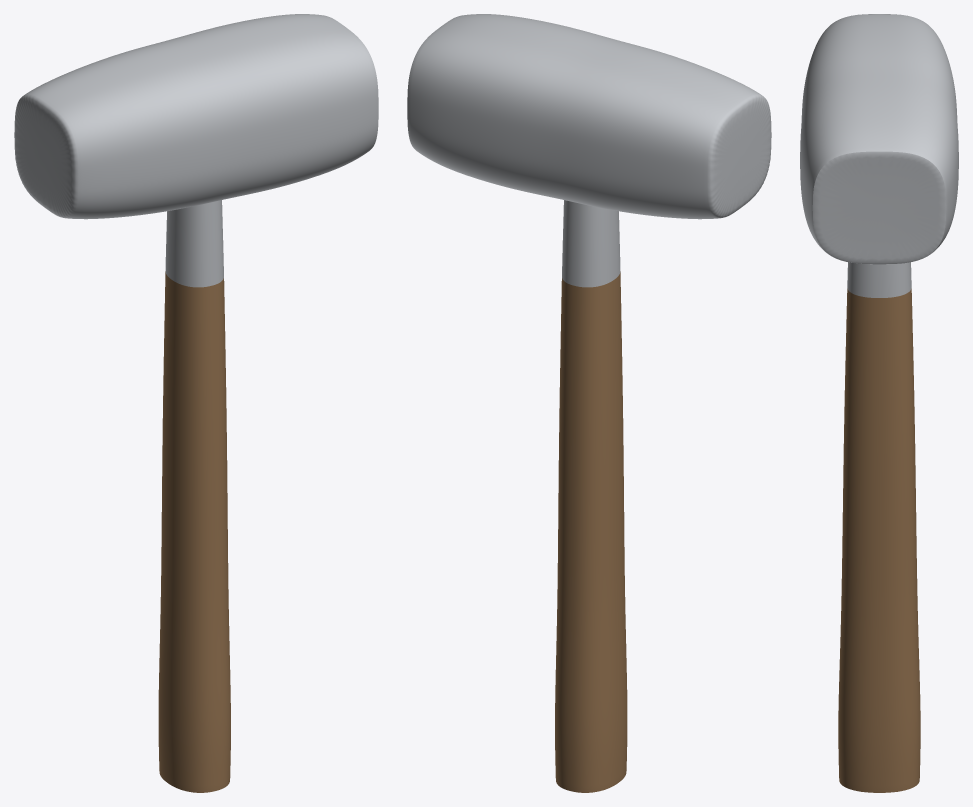
The model's file is Tool_Hammer.fbx.
The picture shows the model from 3 angles, left to right: view 1: azimuth 30°, elevation 25°; view 2: azimuth 150°, elevation 25°; view 3: azimuth 270°, elevation 25°; orthographic projection.
Visible parts, largest first — view 1: Tool_Hammer; view 2: Tool_Hammer; view 3: Tool_Hammer.
Part boxes in pixels (bbox=[...]): Tool_Hammer: bbox=[14, 14, 378, 792]; Tool_Hammer: bbox=[407, 14, 771, 792]; Tool_Hammer: bbox=[800, 14, 958, 792].
Size of the model in its own units: 11.78 by 27 by 5.46.
